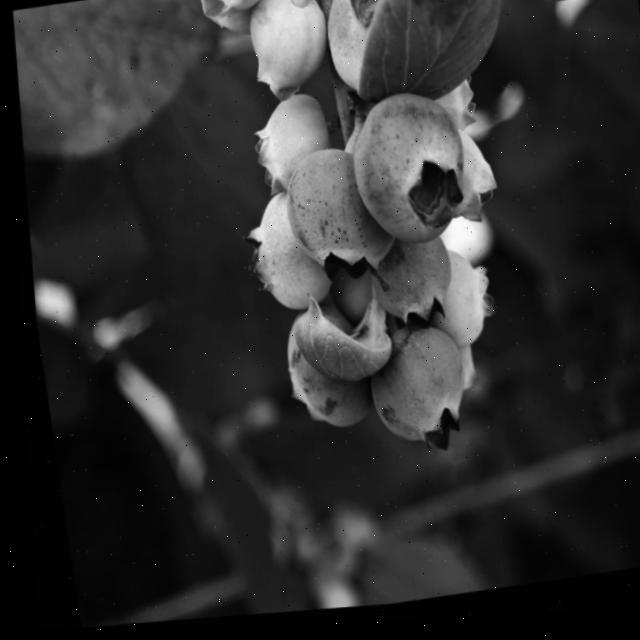RipeBlueBerry: (340, 93, 473, 258), (269, 148, 383, 296), (348, 328, 469, 461)
